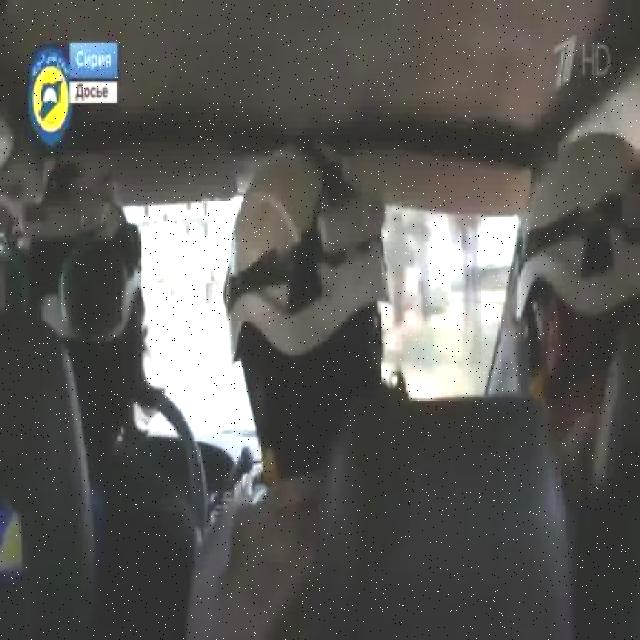Helmet: (228, 146, 394, 367), (13, 148, 149, 354), (514, 130, 640, 326)
